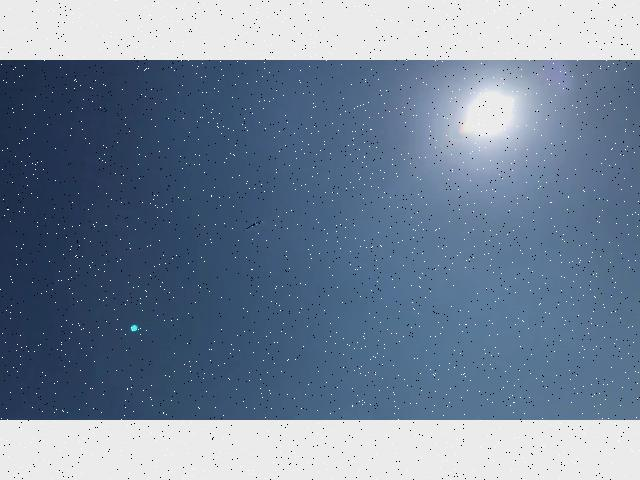Anti-Drone: (230, 209, 272, 238)
